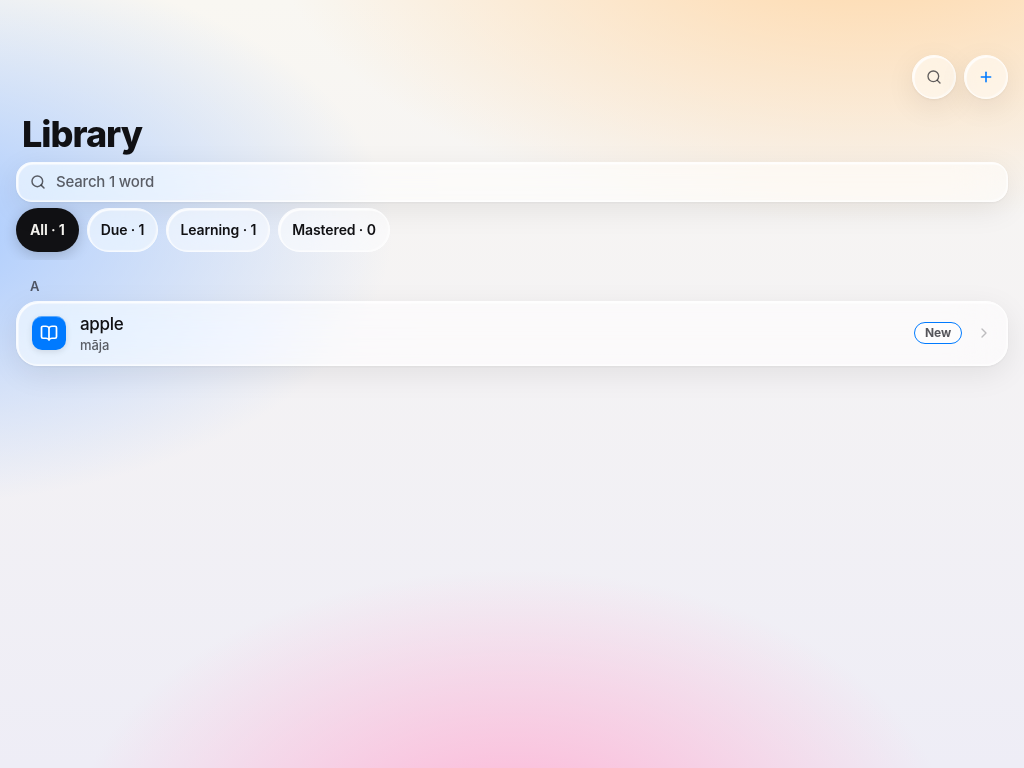
Test: LibraryScreen › Search field › should show no-results state when search matches nothing
expect the text "apple" is shown: met, box [80,314,124,334]
Type "zzz" into the search field at (524, 182), box [54,171,994,192]
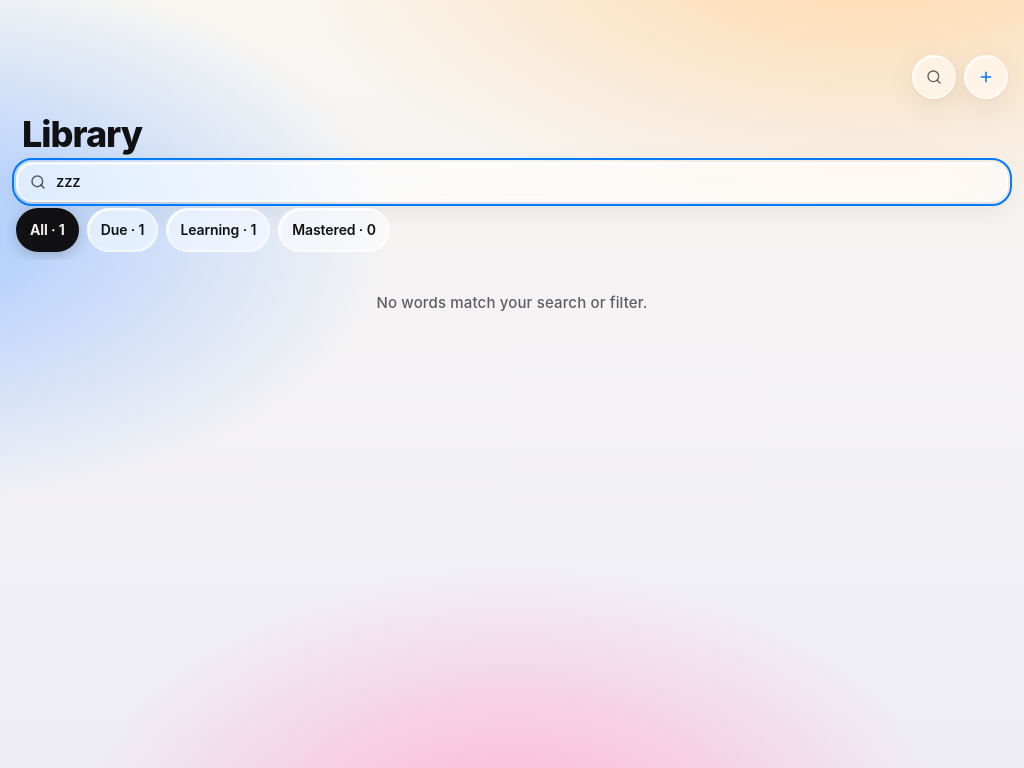
expect the text "No words match your search or filter." is shown: met, box [376,293,648,312]
